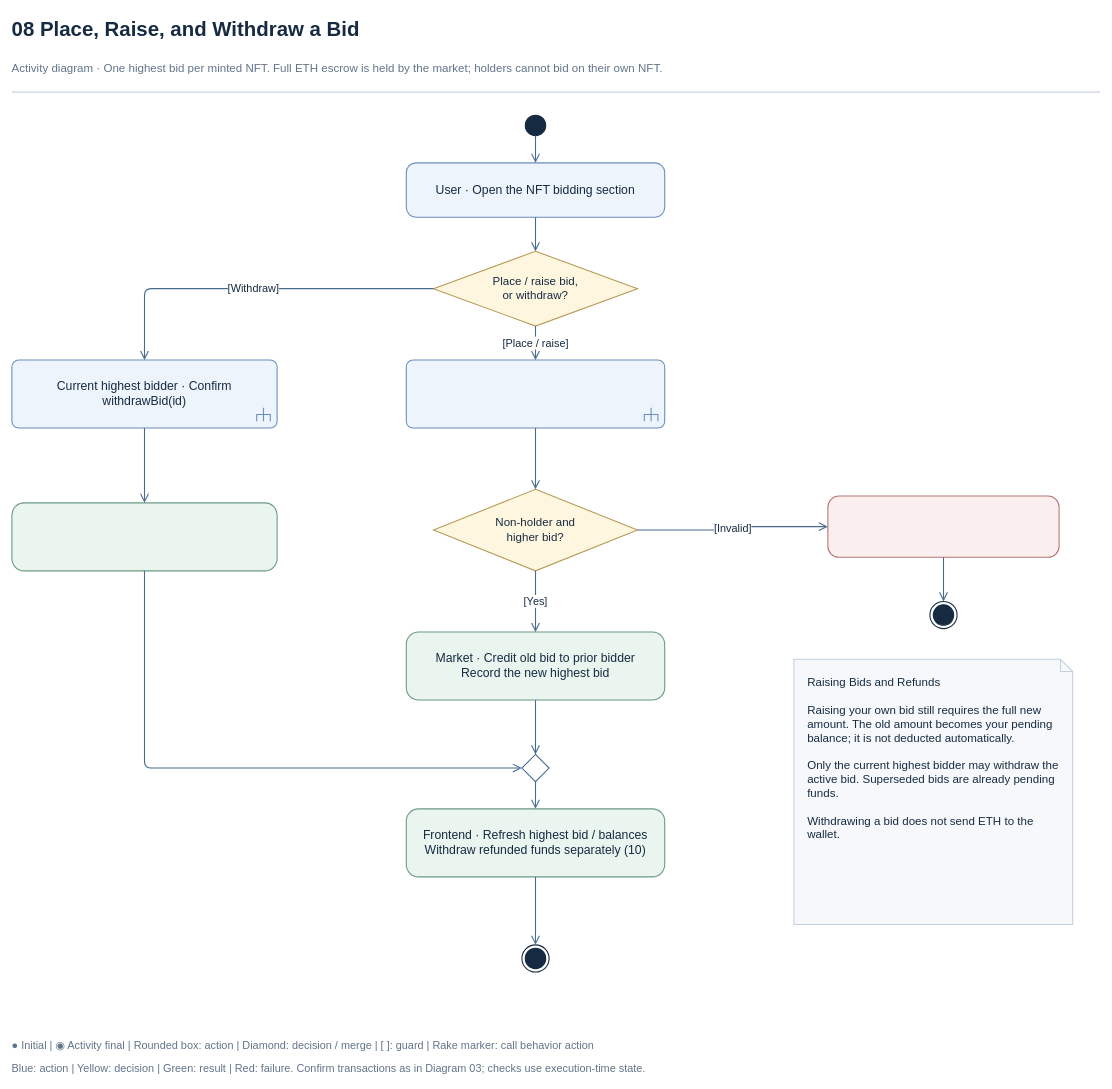
Image size: 1112x1089. Some labels were removed from this diagram. The box of each missing label's shape, as (x1, y1, x2, y2) in pixels:
Market · Verify current bidder Delete bid; credit pending balance: (11, 502, 277, 571)
Reject low bids, owner bids, invalid NFT Refresh latest bid before retrying: (827, 495, 1059, 557)
User · Enter a higher bid Confirm placeBid(id); send full ETH: (405, 359, 665, 428)
